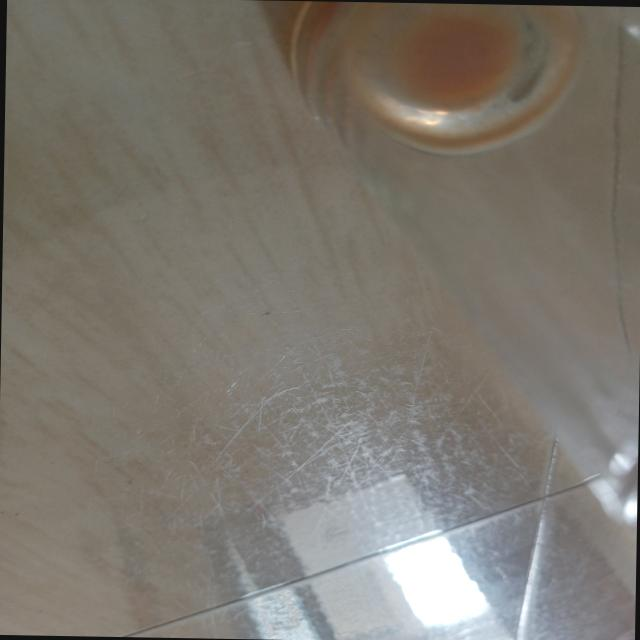glass-VX4N: (234, 0, 640, 534)
